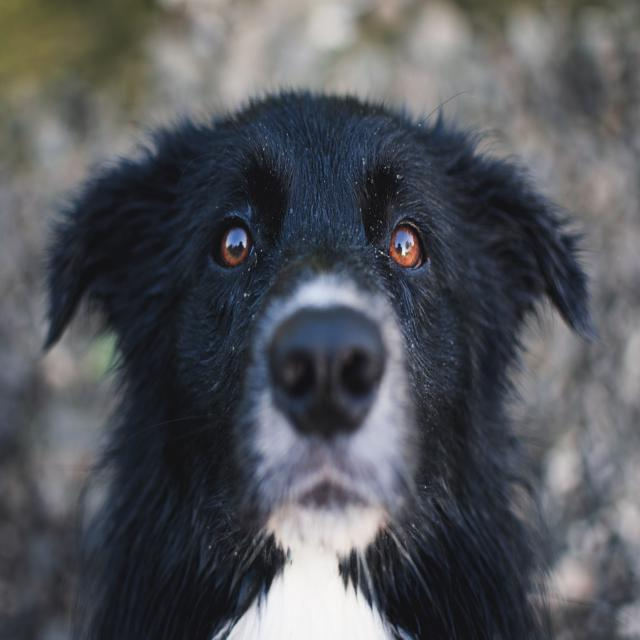eye: (209, 212, 262, 278), (386, 214, 432, 275)
